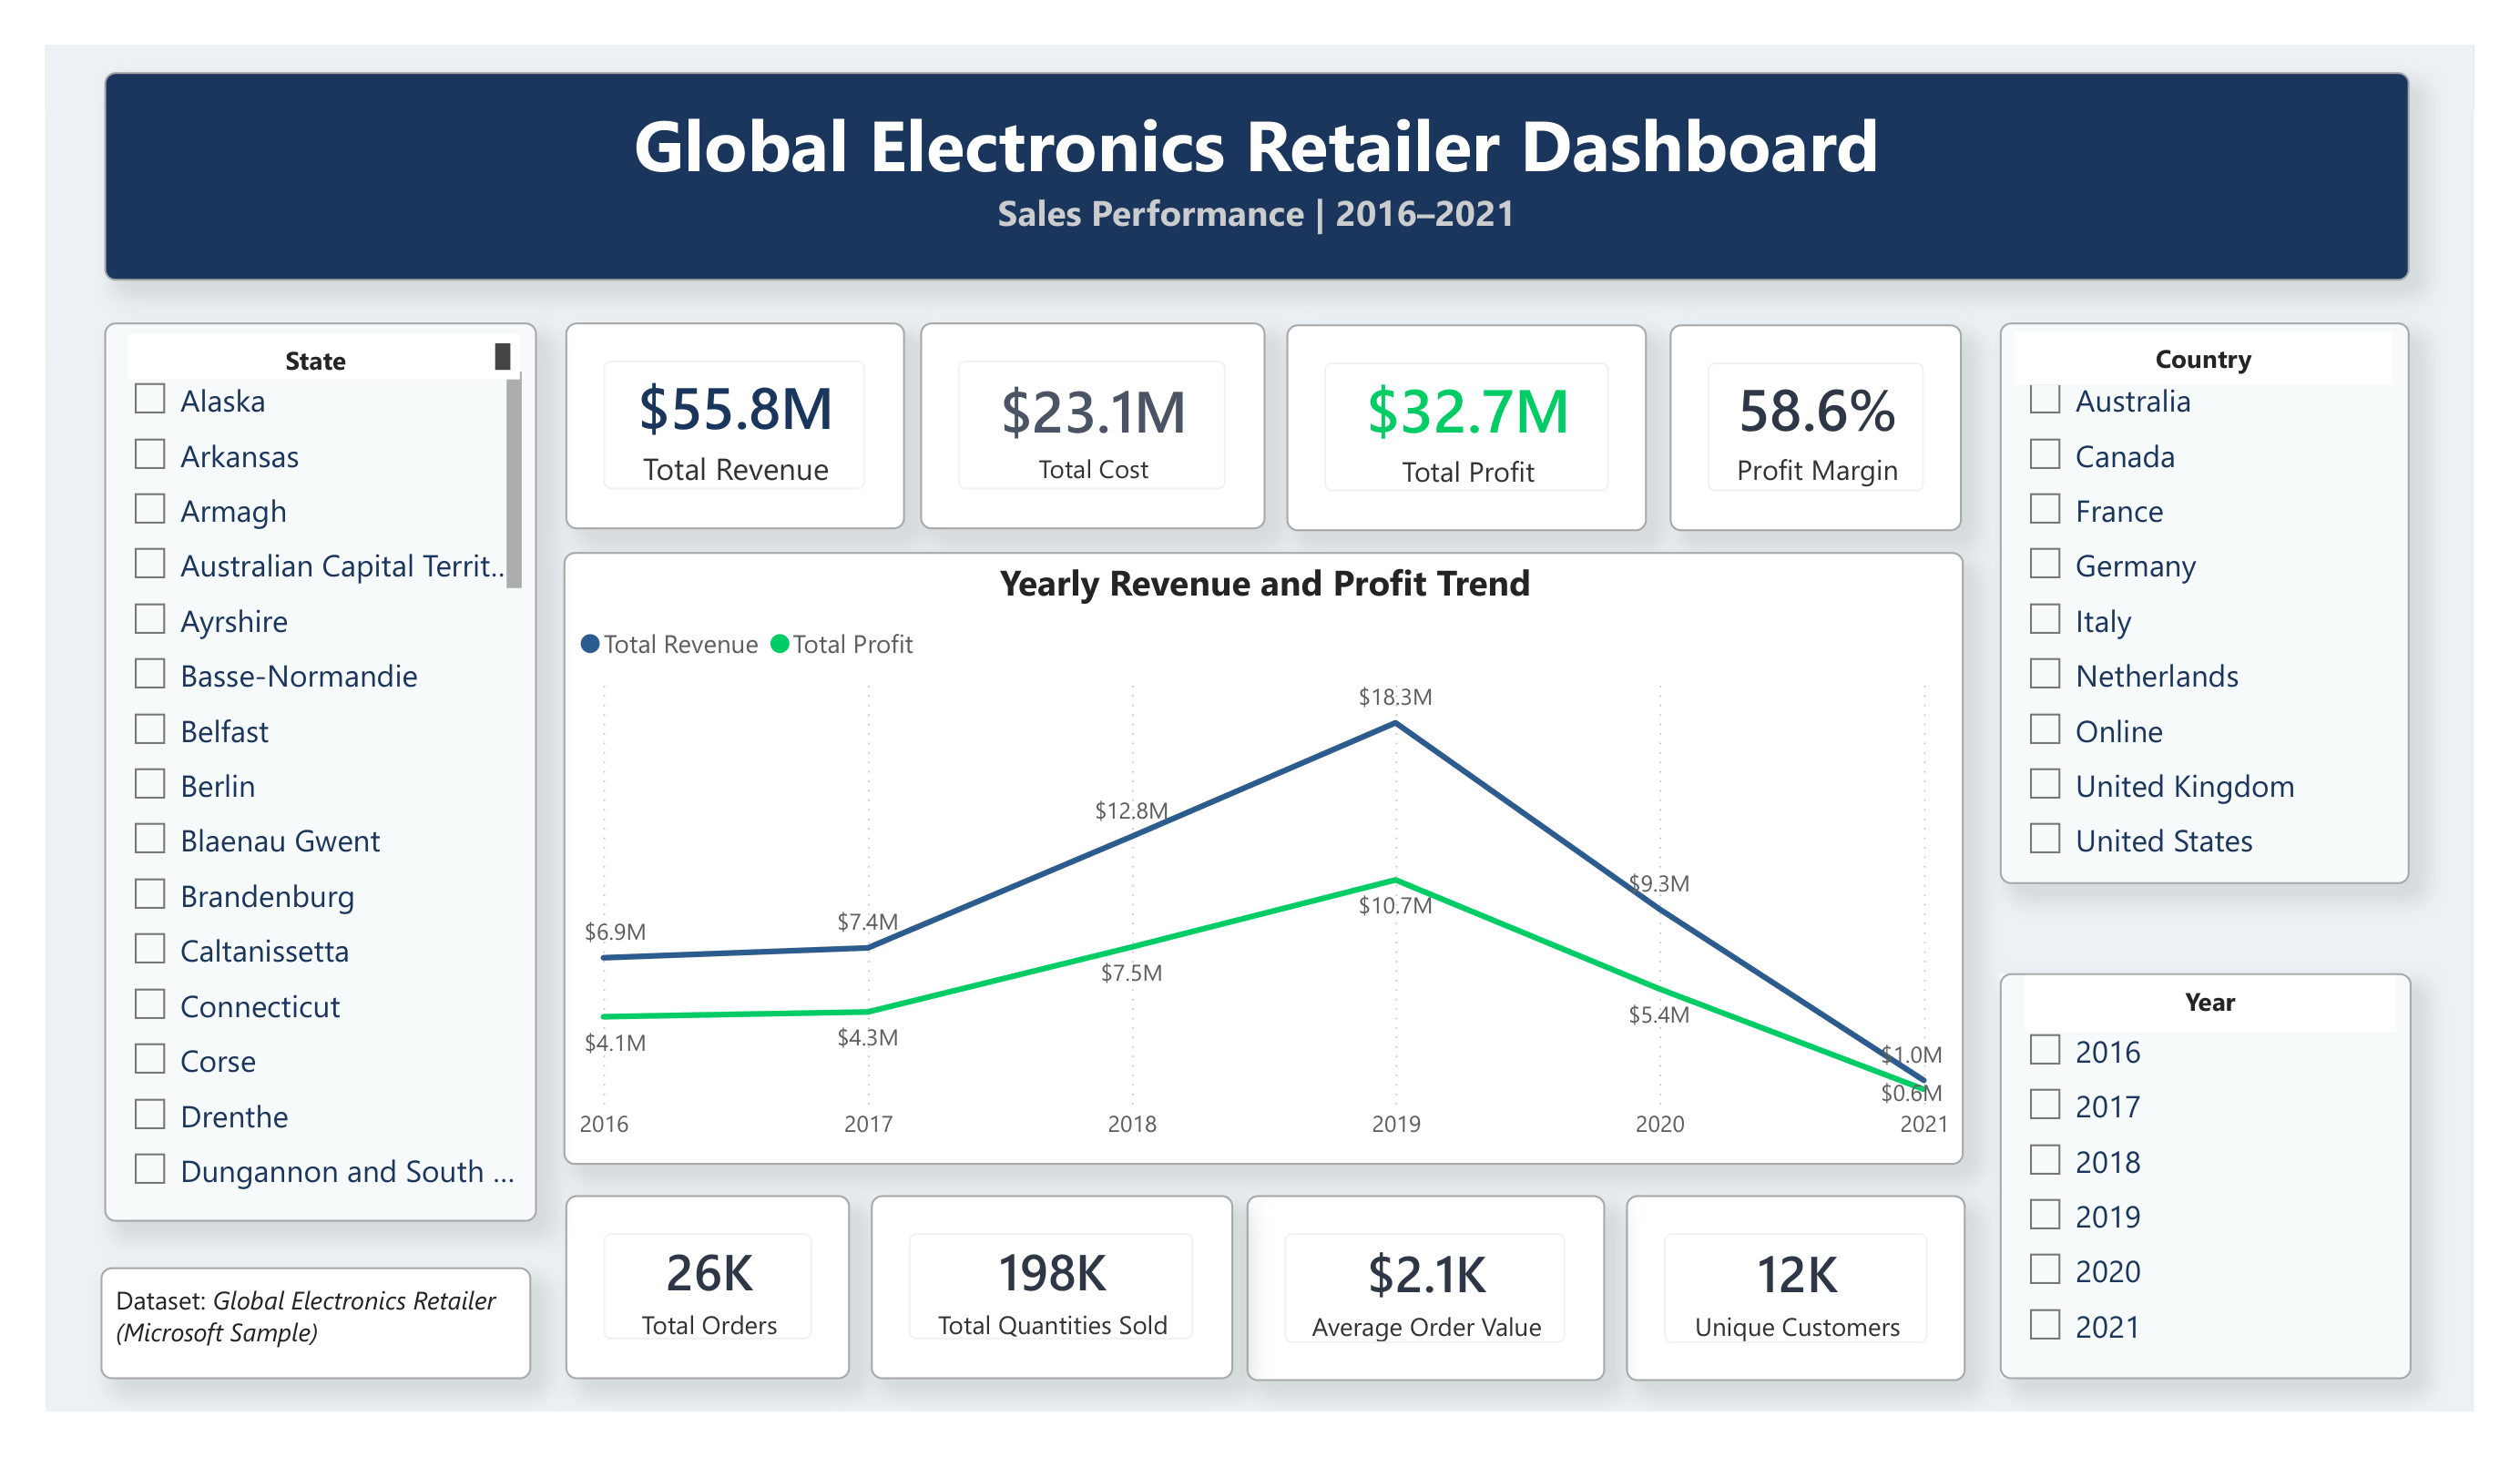

What the dashboard file says about the page in this screenshot:
{"tool":"powerbi","page":{"name":"Executive","canvas":[1280,720],"ordinal":0},"visuals":[{"type":"cardVisual","fields":{"Data":["Sales Analytics.Total Revenue"]},"box":[274.3,146,178.6,108.6],"z":0},{"type":"cardVisual","fields":{"Data":["Sales Analytics.Total Cost"]},"box":[461.4,146,181.4,108.6],"z":1000},{"type":"cardVisual","fields":{"Data":["Sales Analytics.Total Profit"]},"box":[654.3,147.4,190,108.6],"z":2000},{"type":"cardVisual","fields":{"Data":["Sales Analytics.Total Orders"]},"box":[274.2,605.8,150,96.7],"z":3000},{"type":"cardVisual","fields":{"Data":["Sales Analytics.Profit Margin"]},"box":[855.7,147.4,154.3,108.6],"z":4000},{"type":"cardVisual","fields":{"Data":["Sales Analytics.Unique Customers"]},"box":[832.5,605.8,179.2,98.3],"z":5000},{"type":"cardVisual","fields":{"Data":["Sales Analytics.Average Order Value"]},"box":[633.3,605.8,188.3,98.3],"z":6000},{"type":"lineChart","title":"Yearly Revenue and Profit Trend","fields":{"Y":["Sales Analytics.Total Revenue","Sales Analytics.Total Profit"],"Category":["Sales Analytics.order_date.Variation.Date Hierarchy.Year","Sales Analytics.order_date.Variation.Date Hierarchy.Quarter","Sales Analytics.order_date.Variation.Date Hierarchy.Month","Sales Analytics.order_date.Variation.Date Hierarchy.Day"]},"box":[272.9,267.1,738.6,322.9],"z":7000},{"type":"textbox","box":[31.4,14.3,1214.3,110],"z":8000},{"type":"slicer","fields":{"Values":["Sales Analytics.order_date.Variation.Date Hierarchy.Year"]},"box":[1030,488.6,216.9,214.5],"z":8000,"group":"g3"},{"type":"slicer","fields":{"Values":["Sales Analytics.country"]},"box":[1030,145.7,215.7,295.7],"z":9000,"group":"g2"},{"type":"cardVisual","fields":{"Data":["Sales Analytics.Total Quantities Sold"]},"box":[435,605.8,190.8,96.7],"z":9000},{"type":"group","id":"g1","title":"Group 1","box":[1030,488.6,215.7,214.3],"z":10000},{"type":"slicer","fields":{"Values":["Sales Analytics.state"]},"box":[31.4,145.7,227.1,474.3],"z":11000},{"type":"group","id":"g2","title":"Group 2","box":[1030,145.7,215.7,295.7],"z":12000},{"type":"textbox","box":[1042.6,489.9,195.9,29.8],"z":13000,"group":"g3"},{"type":"textbox","box":[28.6,644.3,227.1,58.6],"z":13000},{"type":"textbox","box":[1038.4,150.6,198.4,27.8],"z":14000,"group":"g2"},{"type":"textbox","box":[42.9,152.1,207.1,24.3],"z":14000},{"type":"group","id":"g3","title":"Group 4","box":[1030,488.6,216.9,214.5],"z":14003,"group":"g1"}]}

Visuals, with their boxes on the page's 1280x720 design canvas (x1, y1, x2, y2). These are canvas units, not pixel positions in the 2520x1457 screenshot, which may show the page scaled, cropped or inside an application window:
cardVisual - Sales Analytics.Total Revenue: detection(274, 146, 453, 255)
cardVisual - Sales Analytics.Total Cost: detection(461, 146, 643, 255)
cardVisual - Sales Analytics.Total Profit: detection(654, 147, 844, 256)
cardVisual - Sales Analytics.Total Orders: detection(274, 606, 424, 702)
cardVisual - Sales Analytics.Profit Margin: detection(856, 147, 1010, 256)
cardVisual - Sales Analytics.Unique Customers: detection(832, 606, 1012, 704)
cardVisual - Sales Analytics.Average Order Value: detection(633, 606, 822, 704)
"Yearly Revenue and Profit Trend" lineChart: detection(273, 267, 1012, 590)
textbox: detection(31, 14, 1246, 124)
slicer - Sales Analytics.order_date.Variation.Date Hierarchy.Year: detection(1030, 489, 1247, 703)
slicer - Sales Analytics.country: detection(1030, 146, 1246, 441)
cardVisual - Sales Analytics.Total Quantities Sold: detection(435, 606, 626, 702)
"Group 1" group: detection(1030, 489, 1246, 703)
slicer - Sales Analytics.state: detection(31, 146, 258, 620)
"Group 2" group: detection(1030, 146, 1246, 441)
textbox: detection(1043, 490, 1238, 520)
textbox: detection(29, 644, 256, 703)
textbox: detection(1038, 151, 1237, 178)
textbox: detection(43, 152, 250, 176)
"Group 4" group: detection(1030, 489, 1247, 703)
